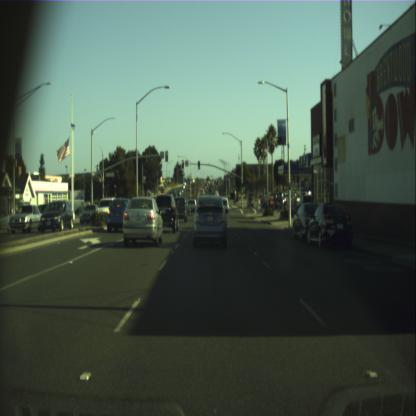Green: (197, 160, 200, 169), (242, 183, 243, 189)
RedLeft: (181, 160, 184, 168), (114, 183, 116, 191)
